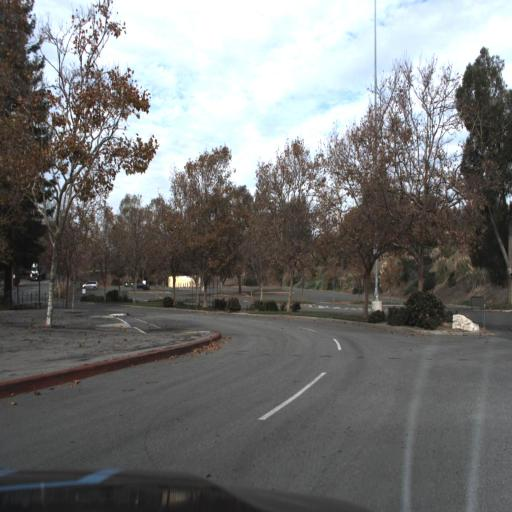car: (83, 281, 98, 291)
truck: (30, 261, 47, 282)
